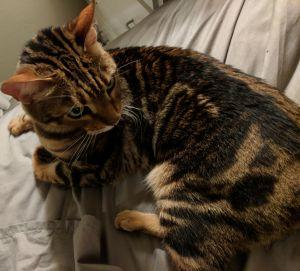bengal: (1, 1, 138, 138)
